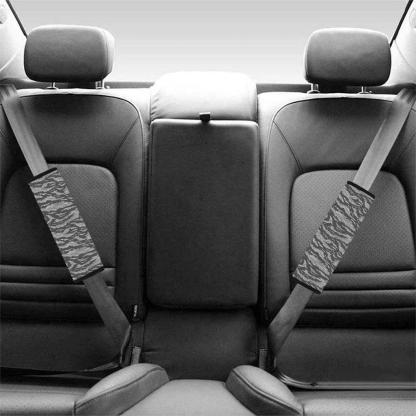seatbelt: (272, 29, 416, 354), (0, 42, 125, 306)
